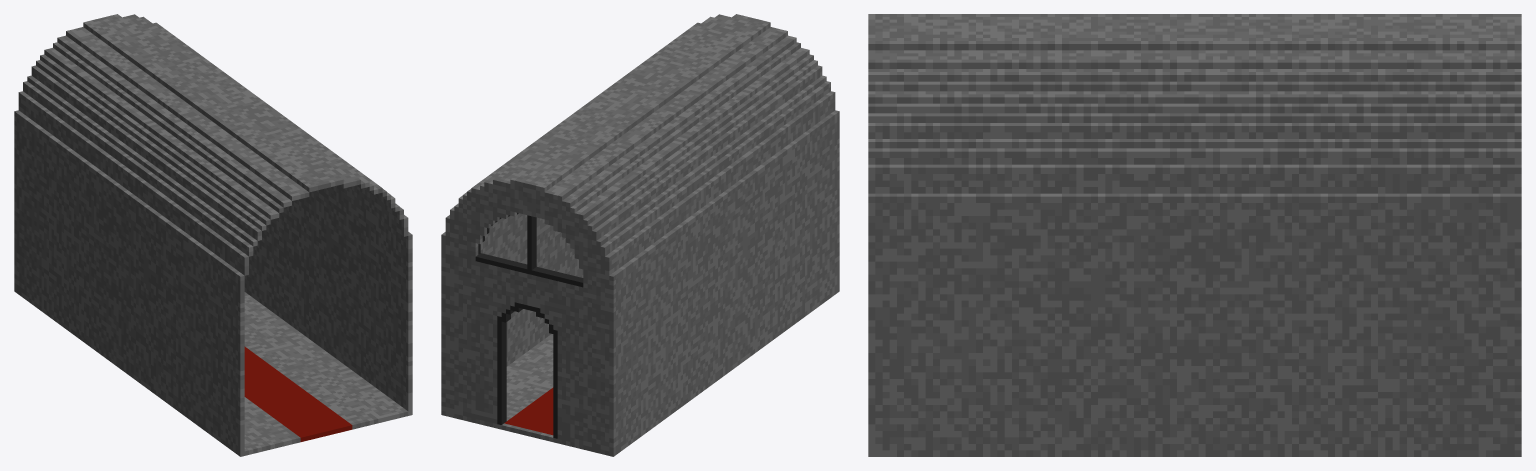
File: skelly-guy-palace-2.obj
The picture shows the model from 3 angles, left to right: view 1: azimuth 30°, elevation 25°; view 2: azimuth 150°, elevation 25°; view 3: azimuth 270°, elevation 25°; orthographic projection. The views are drawn at different scales.
Bounding box in the file's own units: 4 × 5.6 × 9.1.
1 material, 1 textured.
